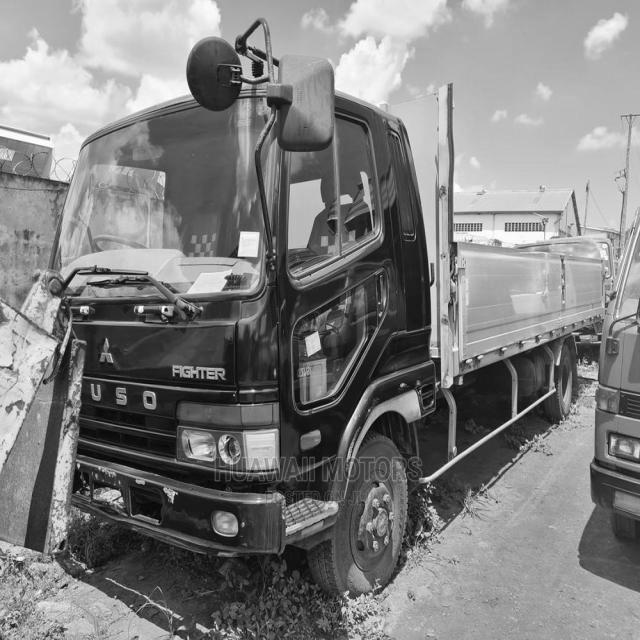truck: (38, 21, 457, 597)
